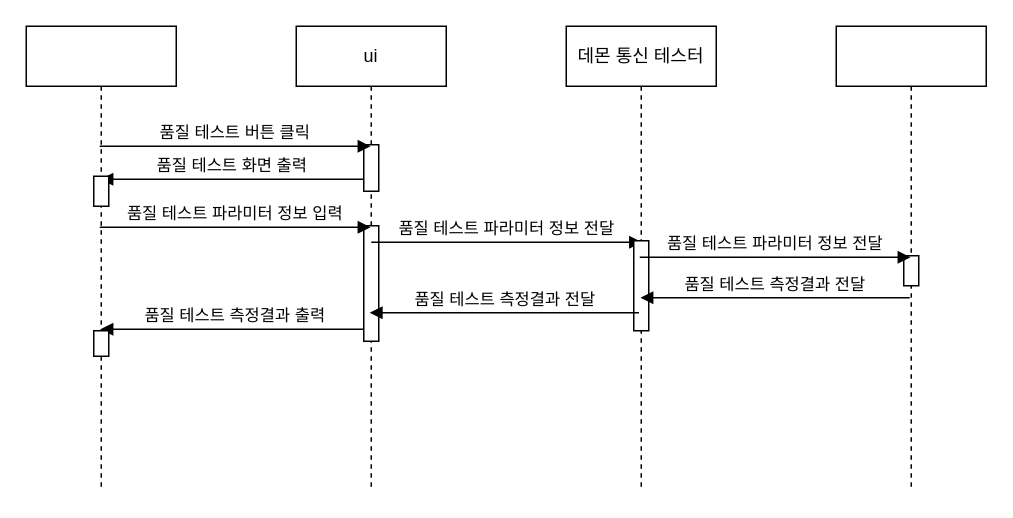
The diagram is 1013 pixels wide and 518 high, and some of its shapes have lost their labels. Each missing label, with the box of its shape:
user: (25, 25, 176, 491)
데몬 sw: (835, 25, 986, 491)
